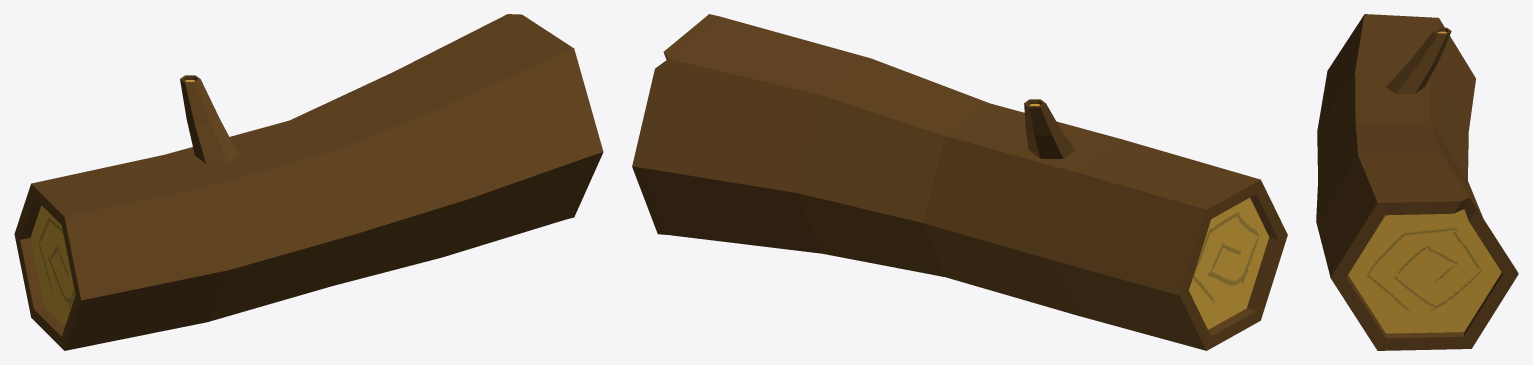
File: Log_01.fbx
3 views of the same model, side by side, from view 1: azimuth 30°, elevation 25°; view 2: azimuth 150°, elevation 25°; view 3: azimuth 270°, elevation 25° (orthographic). The views are drawn at different scales.
Parts seen in each view (by area): view 1: Cylinder.003; view 2: Cylinder.003; view 3: Cylinder.003.
Boxes of the visible parts, x1=… form: Cylinder.003: x1=14, y1=14, x2=603, y2=350; Cylinder.003: x1=632, y1=14, x2=1287, y2=350; Cylinder.003: x1=1316, y1=14, x2=1518, y2=350.
Size of the model in its own units: 75.72 by 27.42 by 28.95.
Materials: 1 (1 with a texture image).
